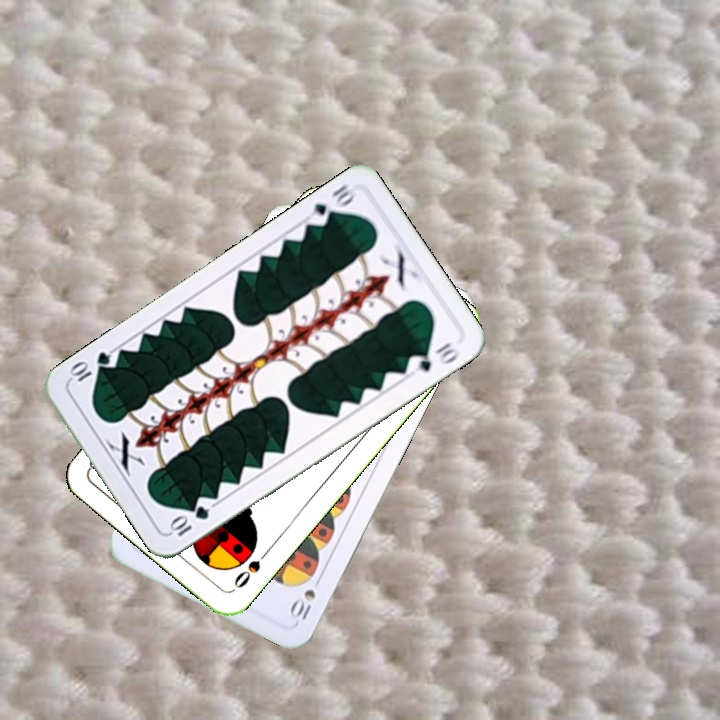G10: (303, 180, 357, 229), (166, 501, 212, 539)
S10: (285, 571, 325, 623)
SO: (229, 545, 272, 591)
